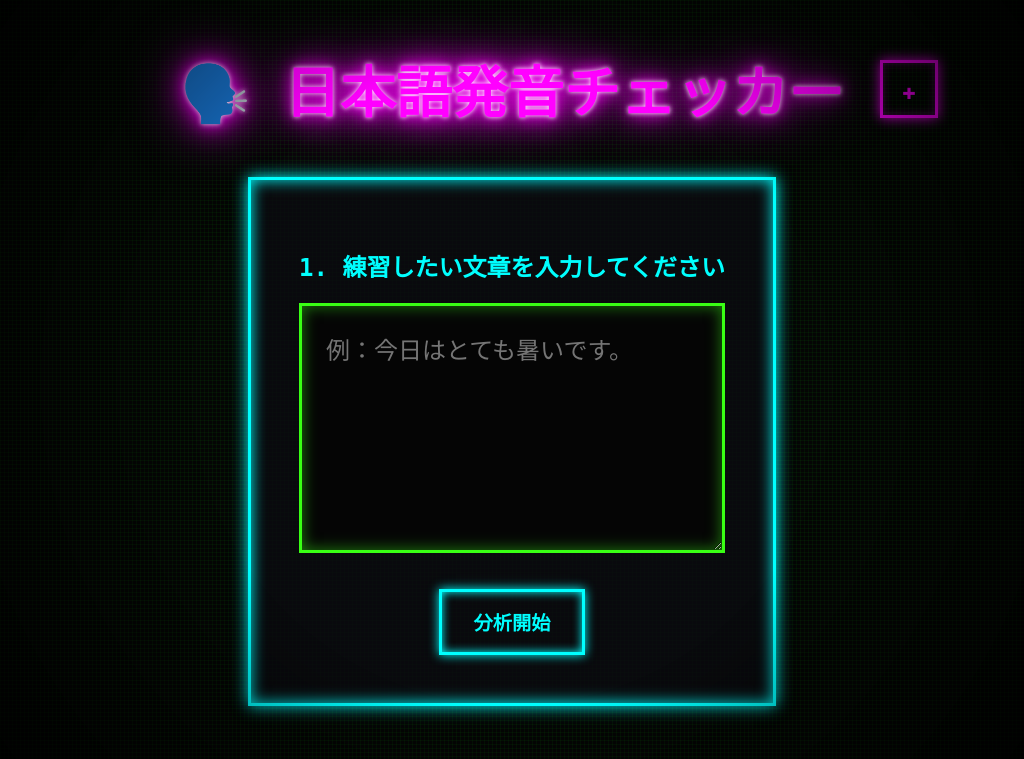
Scenario: App free line recording selection › auto-stops and judges after 5 seconds without new live-preview text
Step 1. Type "alpha line" into the text box with placeholder "例：今日はとても暑いです。" → (512, 428), box [299,303,725,553]
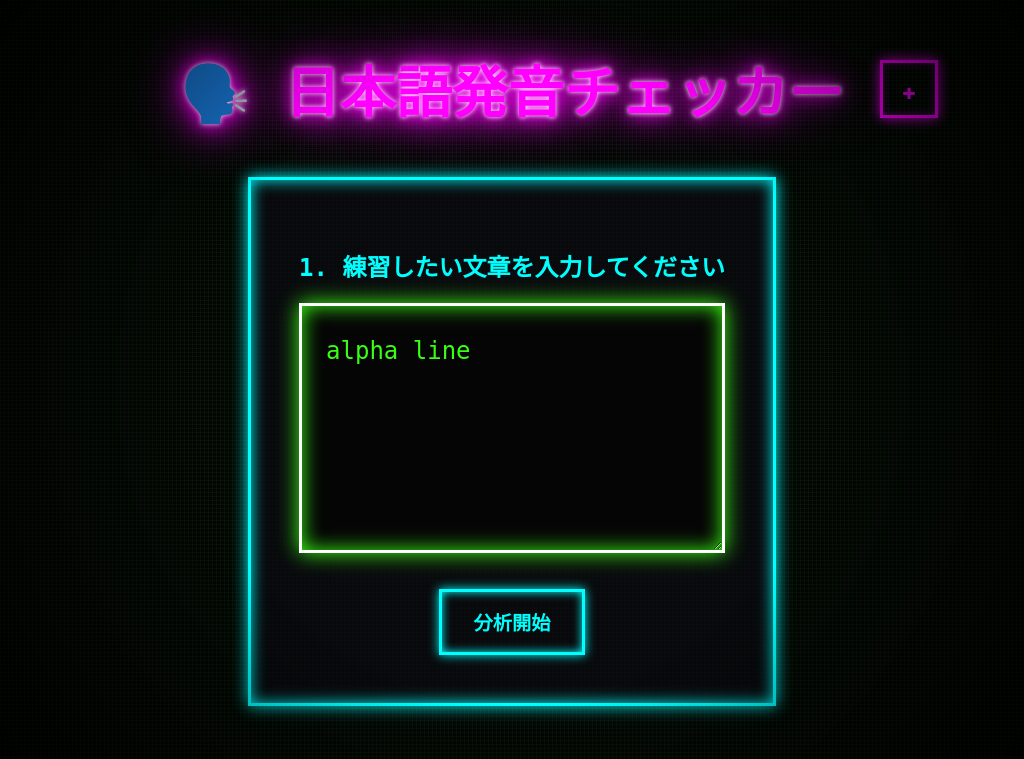
Step 2. Click the button "分析開始" → click(512, 622), box [439,589,585,655]
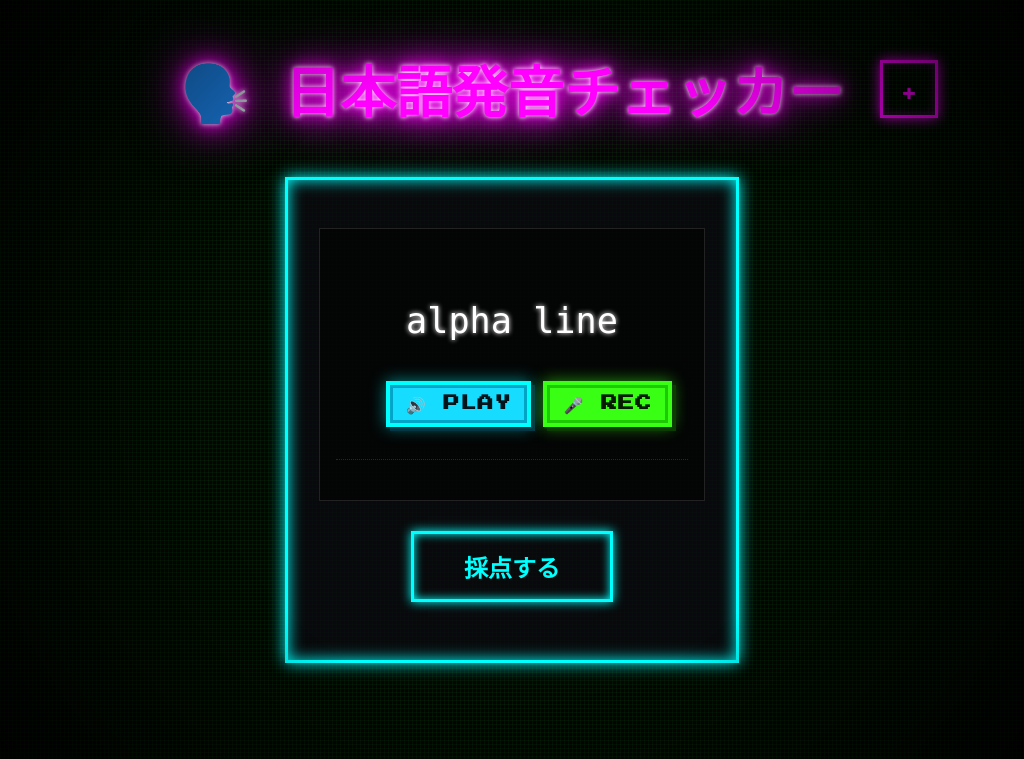
Check: the element with class "line-compare-container" is shown, box [336,245,688,460]
Step 3. Click the button "🎤 REC" → click(608, 404), box [544,381,672,427]
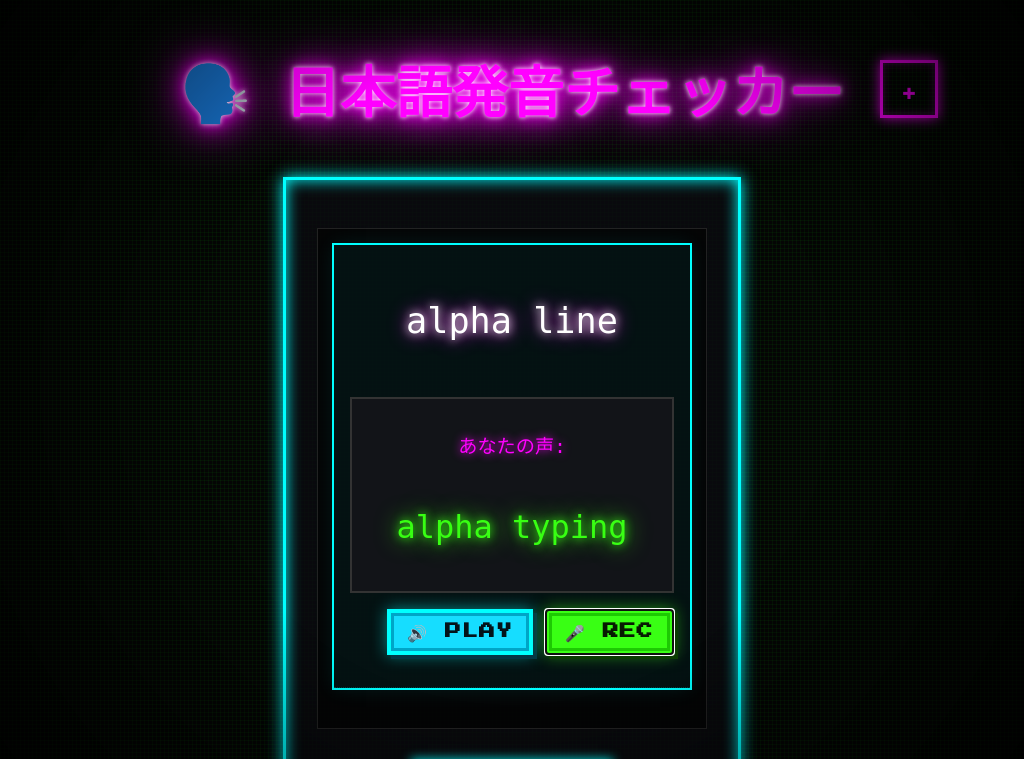
Check: the element with class "line-compare-container" is shown, box [334,245,690,688]
Check: the button "🎤 REC" is shown, box [545,609,674,655]
Check: the element with class "spoken-result" shows "alpha typing", box [350,397,674,593]
